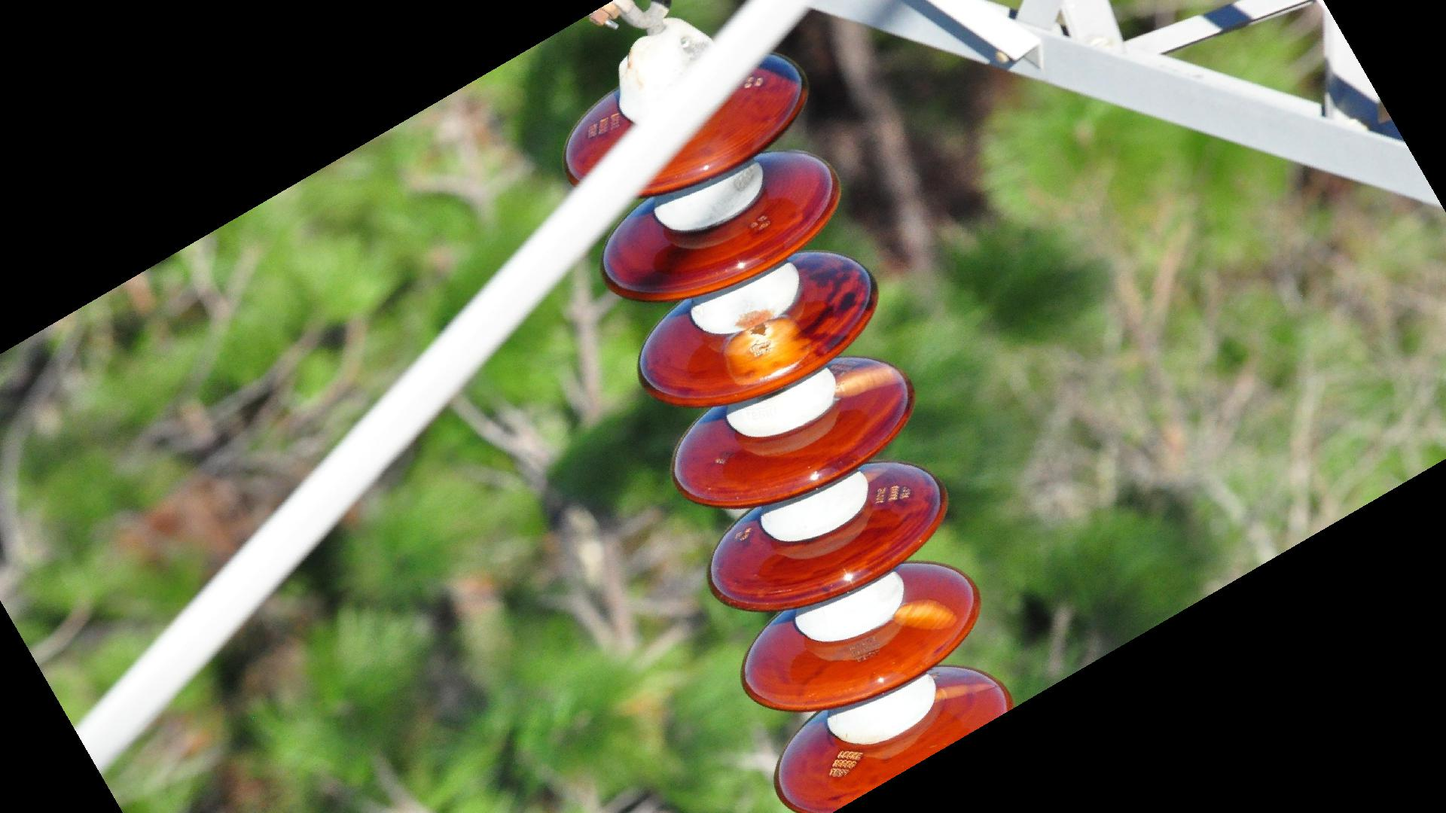insulator: (557, 47, 1020, 813)
insulator_flashover: (718, 313, 813, 388), (829, 359, 907, 403), (890, 598, 963, 636), (932, 675, 997, 707)
